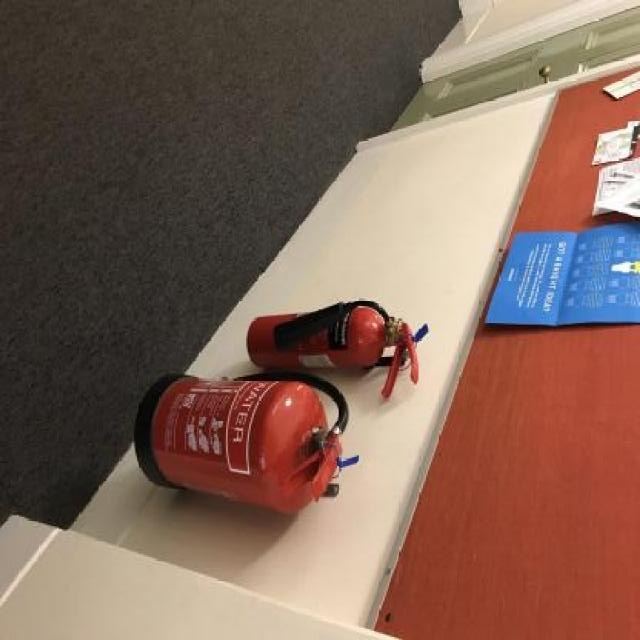fire extinguisher: (134, 369, 349, 515), (246, 298, 422, 400)
